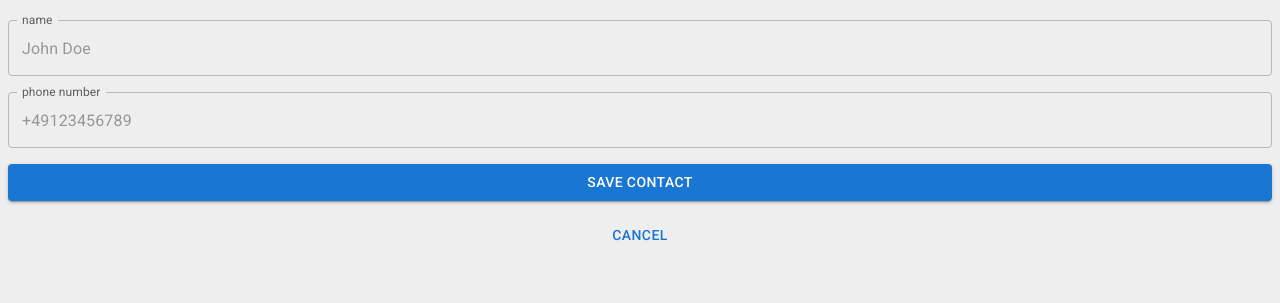
Test case: should display error messages when submitting an invalid form
Click the button "Save contact" at (640, 182), box [8,164,1272,200]
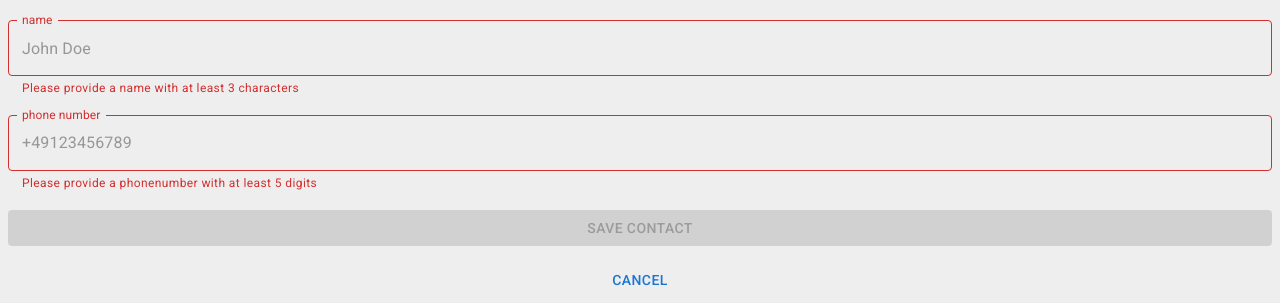
Check: the text "Please provide a name with at least 3 characters" is shown, box [22,81,299,95]
Check: the text "Please provide a phonenumber with at least 5 digits" is shown, box [22,176,317,190]
